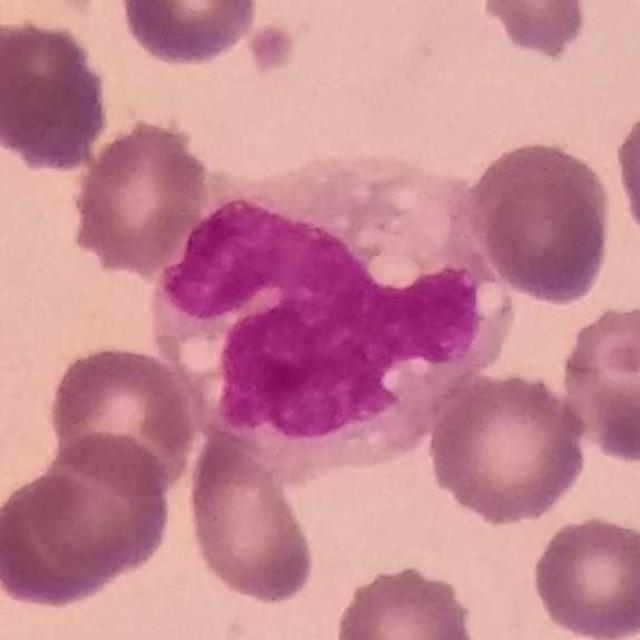mono: (152, 145, 526, 475)
